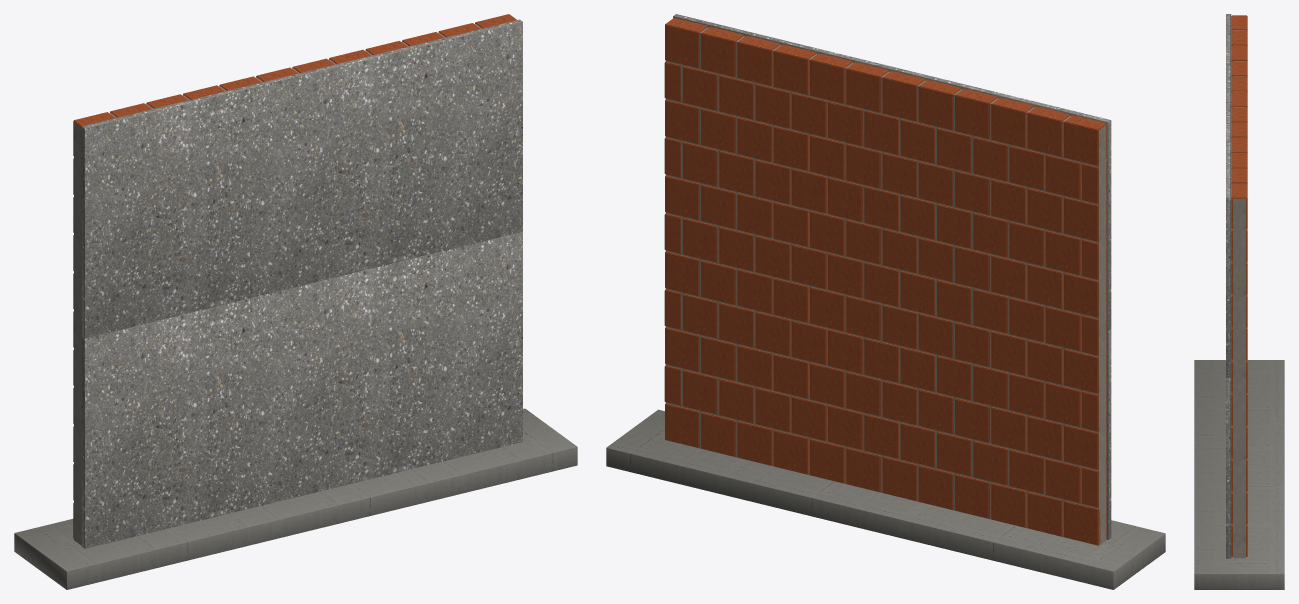
File: KIT-REV-03.glb
3 views of the same model, side by side, from view 1: azimuth 30°, elevation 25°; view 2: azimuth 150°, elevation 25°; view 3: azimuth 270°, elevation 25° (orthographic). The views are drawn at different scales.
Parts seen in each view (by area): view 1: KIT-REV-03_massa_unica_sup, KIT-REV-03_massa_unica_inf, KIT-REV-03_base, KIT-REV-03_argamassa_juntas, KIT-REV-03_chapisco; view 2: KIT-REV-03_base, KIT-REV-03_argamassa_juntas, KIT-REV-03_massa_unica_sup, KIT-REV-03_chapisco, KIT-REV-03_p125, KIT-REV-03_p133, KIT-REV-03_p126, KIT-REV-03_p134, KIT-REV-03_p127, KIT-REV-03_p130, KIT-REV-03_p135, KIT-REV-03_p131 (+120 smaller); view 3: KIT-REV-03_base, KIT-REV-03_argamassa_juntas, KIT-REV-03_massa_unica_sup, KIT-REV-03_chapisco, KIT-REV-03_massa_unica_inf, KIT-REV-03_p136, KIT-REV-03_p126, KIT-REV-03_p128, KIT-REV-03_p129, KIT-REV-03_p131, KIT-REV-03_p132, KIT-REV-03_p133 (+5 smaller).
Part boxes in pixels (bbox=[...]): KIT-REV-03_massa_unica_sup: bbox=[82, 20, 522, 338]; KIT-REV-03_massa_unica_inf: bbox=[82, 232, 522, 548]; KIT-REV-03_base: bbox=[14, 408, 577, 589]; KIT-REV-03_argamassa_juntas: bbox=[74, 24, 481, 545]; KIT-REV-03_chapisco: bbox=[81, 19, 519, 546]; KIT-REV-03_base: bbox=[606, 409, 1165, 589]; KIT-REV-03_argamassa_juntas: bbox=[665, 27, 1106, 545]; KIT-REV-03_massa_unica_sup: bbox=[674, 14, 1111, 330]; KIT-REV-03_chapisco: bbox=[673, 16, 1108, 539]; KIT-REV-03_p125: bbox=[1064, 115, 1106, 165]; KIT-REV-03_p133: bbox=[773, 44, 816, 94]; KIT-REV-03_p126: bbox=[1027, 106, 1070, 156]; KIT-REV-03_p134: bbox=[737, 35, 780, 85]; KIT-REV-03_p127: bbox=[991, 97, 1034, 147]; KIT-REV-03_p130: bbox=[882, 71, 925, 121]; KIT-REV-03_p135: bbox=[701, 26, 744, 76]; KIT-REV-03_p131: bbox=[846, 62, 889, 112]; KIT-REV-03_base: bbox=[1194, 360, 1284, 589]; KIT-REV-03_argamassa_juntas: bbox=[1233, 30, 1245, 558]; KIT-REV-03_massa_unica_sup: bbox=[1226, 14, 1230, 377]; KIT-REV-03_chapisco: bbox=[1230, 14, 1231, 558]; KIT-REV-03_massa_unica_inf: bbox=[1226, 378, 1230, 558]; KIT-REV-03_p136: bbox=[1231, 183, 1247, 228]; KIT-REV-03_p126: bbox=[1231, 30, 1247, 46]; KIT-REV-03_p128: bbox=[1231, 61, 1247, 76]; KIT-REV-03_p129: bbox=[1231, 76, 1247, 92]; KIT-REV-03_p131: bbox=[1231, 107, 1247, 122]; KIT-REV-03_p132: bbox=[1231, 122, 1247, 138]; KIT-REV-03_p133: bbox=[1231, 137, 1247, 153].
Size of the model in its own units: 2.8 by 2.3 by 0.5001.
5 materials, 5 textured.
